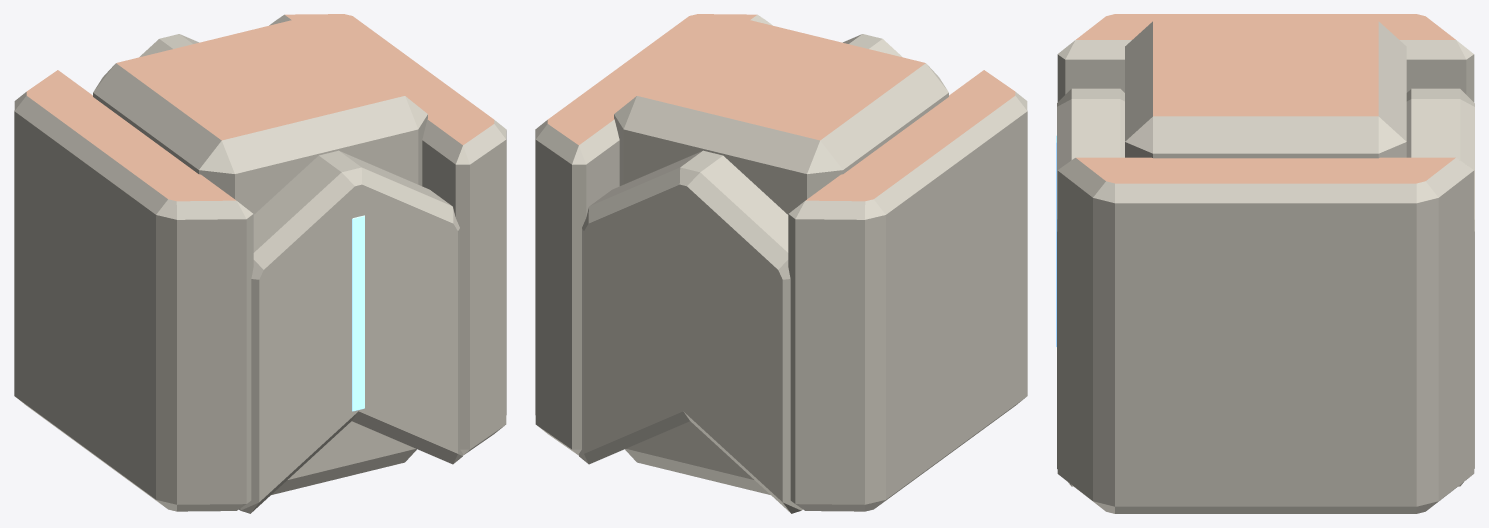
Rendered from R4X_HullBooster_LOD1.fbx.
3 views of the same model, side by side, from view 1: azimuth 30°, elevation 25°; view 2: azimuth 150°, elevation 25°; view 3: azimuth 270°, elevation 25° (orthographic). The views are drawn at different scales.
Parts seen in each view (by area): view 1: R4X_HullBooster_LOD1; view 2: R4X_HullBooster_LOD1; view 3: R4X_HullBooster_LOD1.
Boxes of the visible parts, <box> form: R4X_HullBooster_LOD1: <box>14,14,506,513</box>; R4X_HullBooster_LOD1: <box>535,14,1027,513</box>; R4X_HullBooster_LOD1: <box>1056,14,1474,513</box>.
Bounding box in the file's own units: 0.52 × 0.52 × 0.5053.
